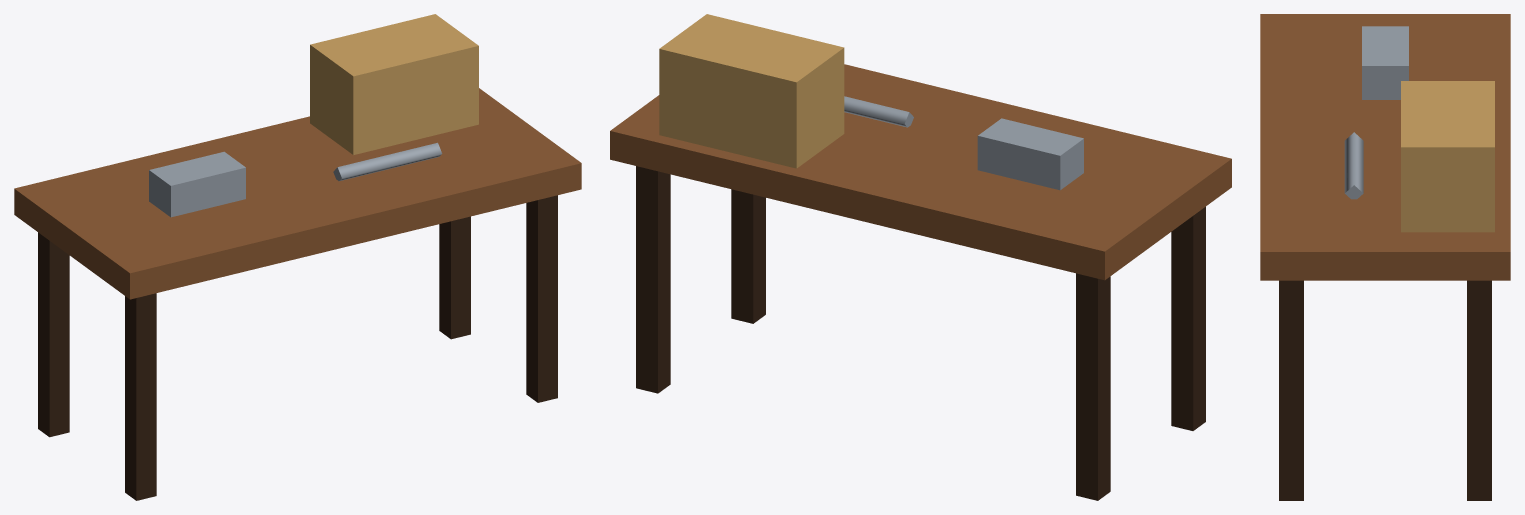
Rendered from f_workbench.glb.
3 views of the same model, side by side, from view 1: azimuth 30°, elevation 25°; view 2: azimuth 150°, elevation 25°; view 3: azimuth 270°, elevation 25° (orthographic). The views are drawn at different scales.
Parts seen in each view (by area): view 1: workbench; view 2: workbench; view 3: workbench.
Boxes of the visible parts, x1,y1,x2,y2 form: workbench: [14, 14, 581, 500]; workbench: [610, 14, 1231, 500]; workbench: [1260, 14, 1510, 500].
Size of the model in its own units: 1.8 by 1.21 by 0.8.
